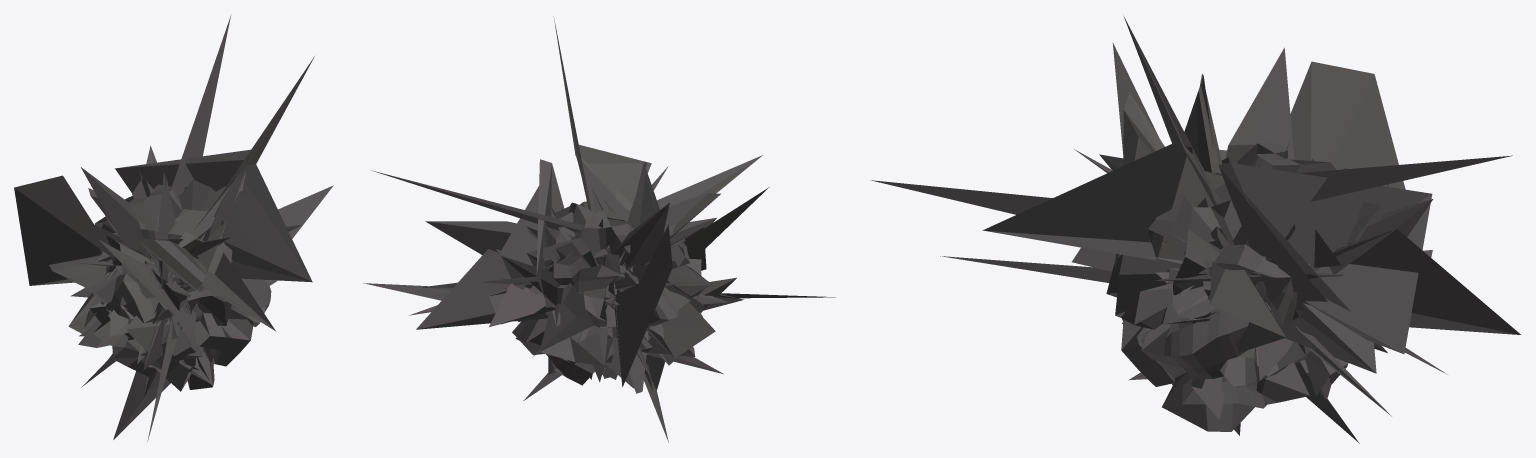
The model's file is greyspike.obj.
3 views of the same model, side by side, from view 1: azimuth 30°, elevation 25°; view 2: azimuth 150°, elevation 25°; view 3: azimuth 270°, elevation 25° (orthographic). The views are drawn at different scales.
Parts seen in each view (by area): view 1: Sphere.003; view 2: Sphere.003; view 3: Sphere.003.
Part boxes in pixels (bbox=[...]): Sphere.003: bbox=[14, 14, 333, 441]; Sphere.003: bbox=[363, 16, 835, 442]; Sphere.003: bbox=[871, 16, 1520, 443].
Size of the model in its own units: 279 by 298 by 330.
Materials: 1 (1 with a texture image).
